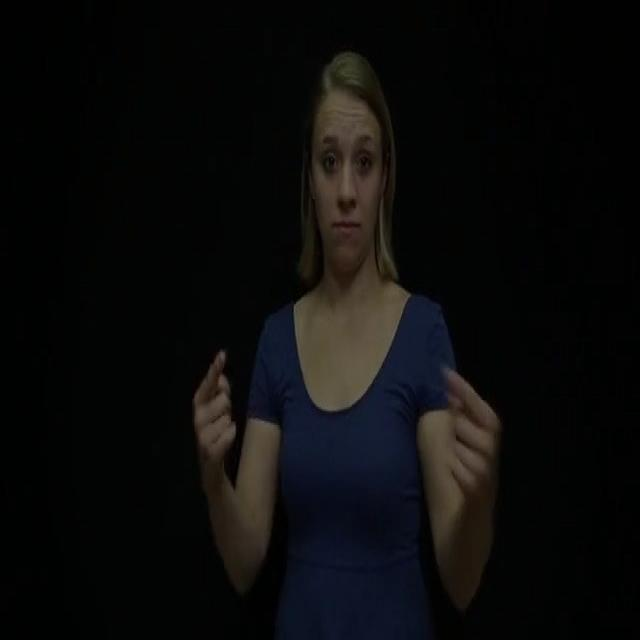allergy: (187, 336, 504, 524)
